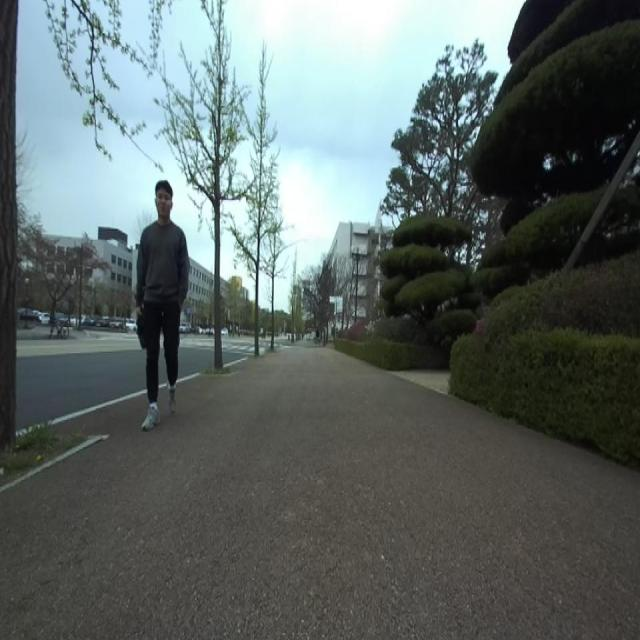sidewalk: (0, 344, 640, 639), (50, 389, 146, 425), (390, 370, 451, 394), (178, 374, 199, 381)
